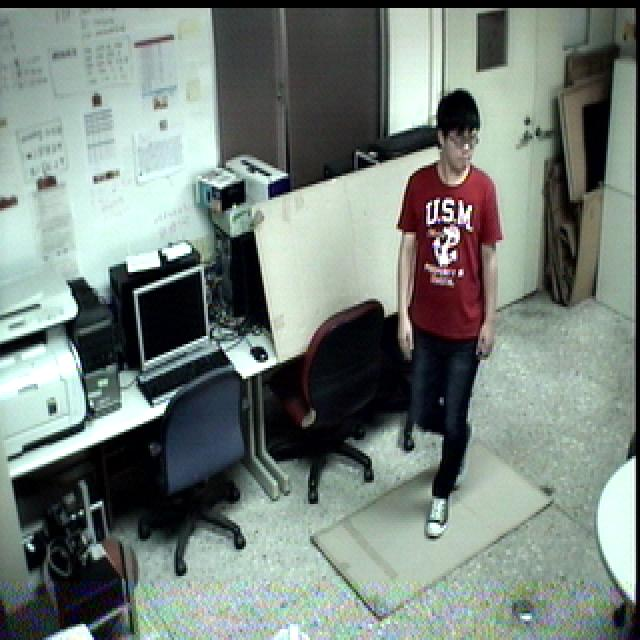stand: (394, 81, 502, 552)
